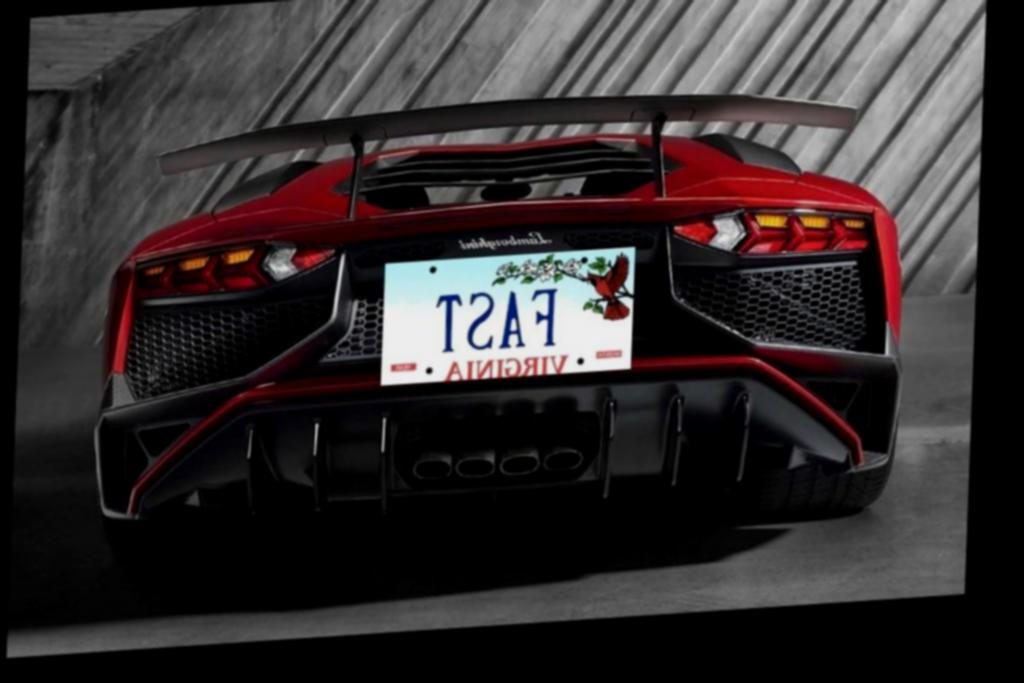License_Plate: (382, 249, 632, 386)
